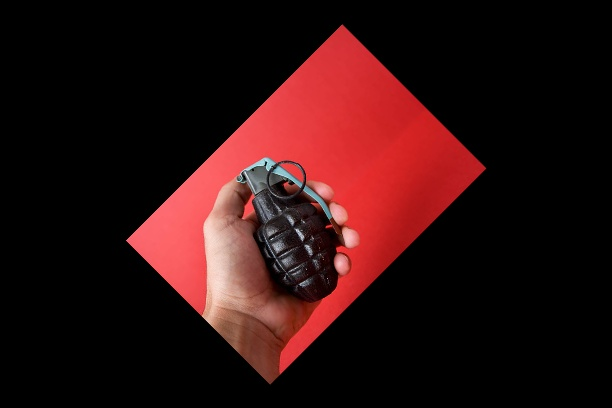e1: (235, 155, 347, 301)
